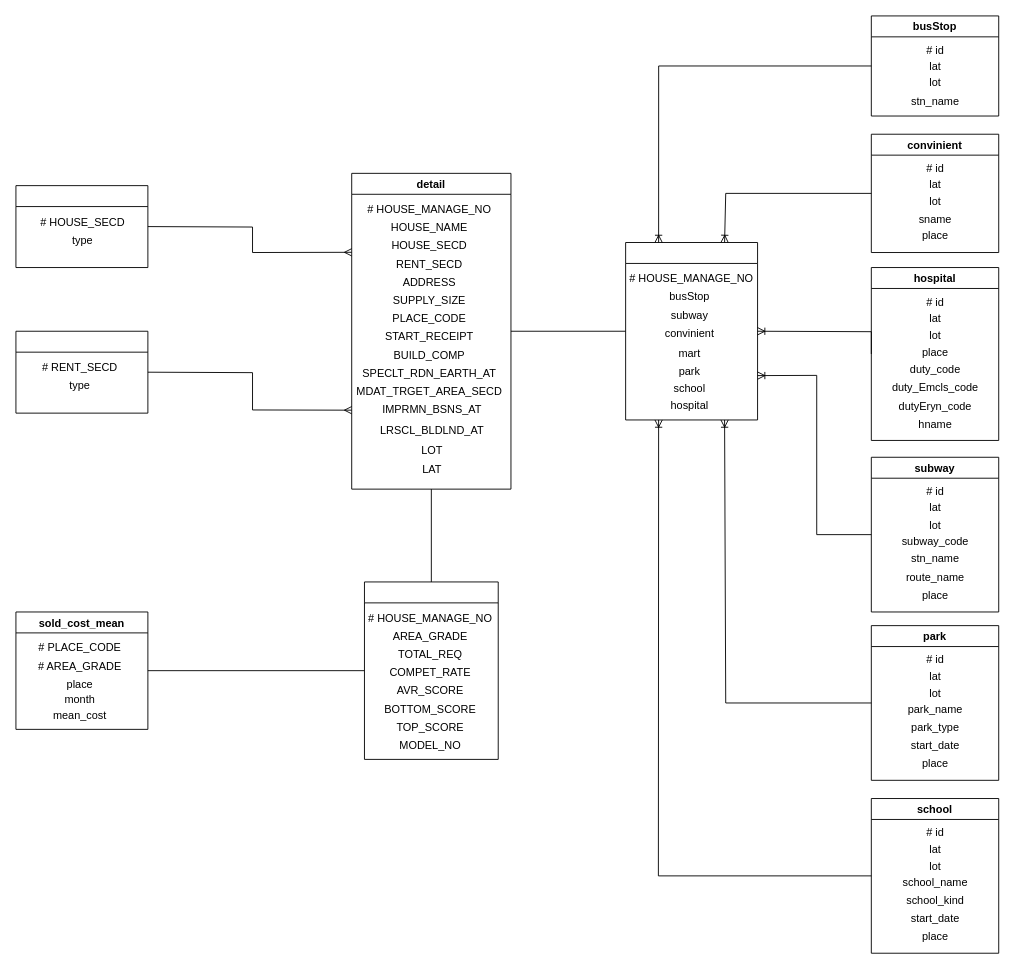
Some shapes in this 1015 by 969 pixel diagram are drawn without their labels. Here are the shapes that lost their labels. From the top down, the box of each, then its label:
(15, 185, 148, 268): HOUSE_SECD_SCH
(625, 242, 758, 420): infra
(15, 330, 148, 413): RENT_SECD_SCH
(364, 581, 498, 759): competition
